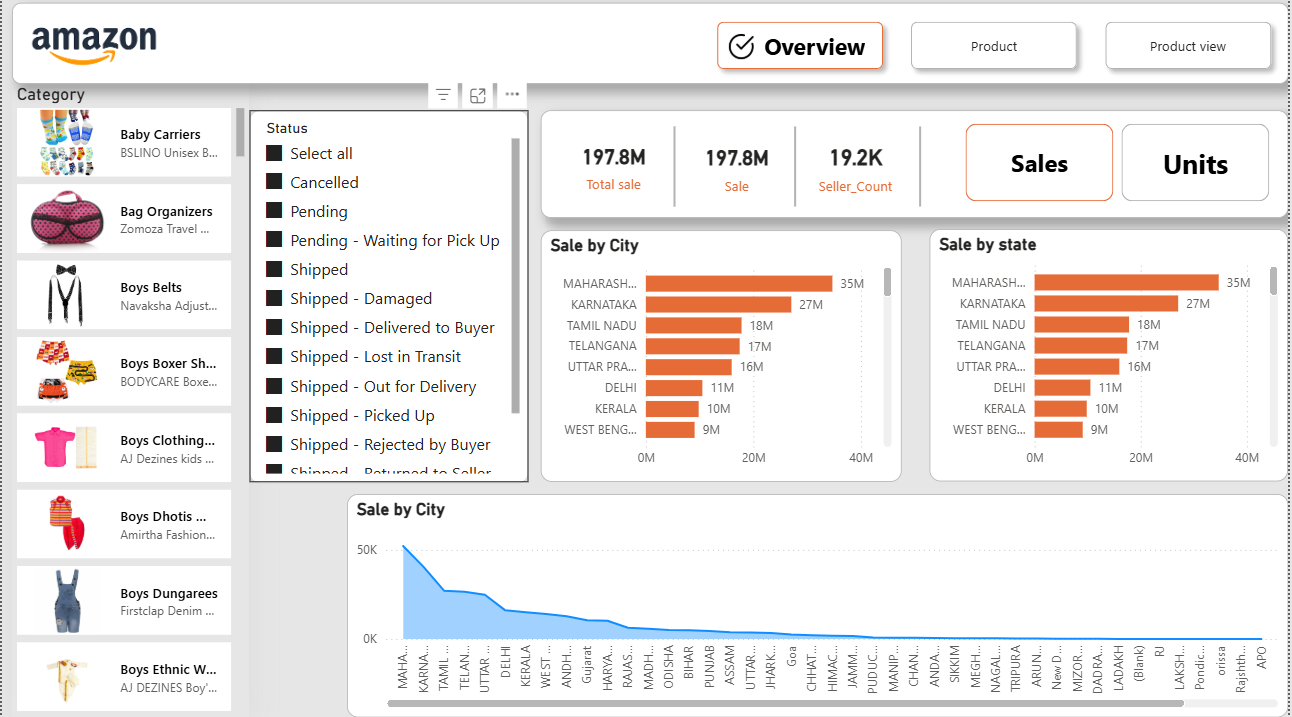

The page's visual inventory and layout, read from the dashboard file:
{"tool":"powerbi","page":{"name":"Overview","canvas":[1280,720],"ordinal":0},"visuals":[{"type":"advancedSlicerVisual","fields":{"Values":["amazon-fashion - YT.Category"]},"box":[9.6,89.2,236,629.8],"z":0},{"type":"shape","box":[10,8.7,1270.1,80.9],"z":1000},{"type":"image","box":[0,14.9,182.9,74.6],"z":2000},{"type":"pageNavigator","box":[702.8,18.7,571,65.9],"z":3000},{"type":"image","box":[702.8,32.3,65.9,39.8],"z":4000},{"type":"slicer","fields":{"Values":["Amazon.Status"]},"box":[246.8,115.2,277.2,370.9],"z":5000},{"type":"shape","box":[536.1,115.7,743.9,107],"z":6000},{"type":"advancedSlicerVisual","fields":{"Values":["Sale_Option.Name"]},"box":[954.1,124.4,313.5,87.1],"z":7000},{"type":"clusteredBarChart","title":"Sale by City","fields":{"Category":["Amazon.ship-state"],"Y":["Amazon.Filter_Sale"]},"box":[536.1,235.1,359.5,250],"z":8000},{"type":"clusteredBarChart","title":"Sale by state","fields":{"Category":["Amazon.ship-state"],"Y":["Amazon.Filter_Sale"]},"box":[923,233.9,357,251.3],"z":9000},{"type":"areaChart","title":"Sale by City","fields":{"Category":["Amazon.ship-state"],"Y":["CountNonNull(Amazon.Date)"]},"box":[343,497.5,936.7,222.8],"z":10000},{"type":"card","fields":{"Values":["Amazon.All_Overall_Sale"]},"box":[531.2,115.7,155.5,109.5],"z":11000},{"type":"card","fields":{"Values":["Amazon.Filter_Sale"]},"box":[656.8,116.9,149.3,109.5],"z":12000},{"type":"card","fields":{"Values":["Amazon.Seller_Count"]},"box":[776.2,115.7,146.8,110.7],"z":13000},{"type":"shape","box":[585.9,131.9,166.7,79.6],"z":14000},{"type":"shape","box":[686.7,131.9,205.3,79.6],"z":15000},{"type":"shape","box":[811.1,131.9,205.3,79.6],"z":16000}]}

Visuals, with their boxes in screenshot pixels (x1, y1, x2, y2), scaled from the page's 1280x720 canvas onto the 1292x717 screenshot:
advancedSlicerVisual - amazon-fashion - YT.Category: {"left": 10, "top": 89, "right": 248, "bottom": 716}
shape: {"left": 10, "top": 9, "right": 1291, "bottom": 89}
image: {"left": 0, "top": 15, "right": 185, "bottom": 89}
pageNavigator: {"left": 709, "top": 19, "right": 1286, "bottom": 84}
image: {"left": 709, "top": 32, "right": 776, "bottom": 72}
slicer - Amazon.Status: {"left": 249, "top": 115, "right": 529, "bottom": 484}
shape: {"left": 541, "top": 115, "right": 1291, "bottom": 222}
advancedSlicerVisual - Sale_Option.Name: {"left": 963, "top": 124, "right": 1279, "bottom": 211}
"Sale by City" clusteredBarChart: {"left": 541, "top": 234, "right": 904, "bottom": 483}
"Sale by state" clusteredBarChart: {"left": 932, "top": 233, "right": 1291, "bottom": 483}
"Sale by City" areaChart: {"left": 346, "top": 495, "right": 1291, "bottom": 716}
card - Amazon.All_Overall_Sale: {"left": 536, "top": 115, "right": 693, "bottom": 224}
card - Amazon.Filter_Sale: {"left": 663, "top": 116, "right": 814, "bottom": 225}
card - Amazon.Seller_Count: {"left": 783, "top": 115, "right": 932, "bottom": 225}
shape: {"left": 591, "top": 131, "right": 760, "bottom": 211}
shape: {"left": 693, "top": 131, "right": 900, "bottom": 211}
shape: {"left": 819, "top": 131, "right": 1026, "bottom": 211}
